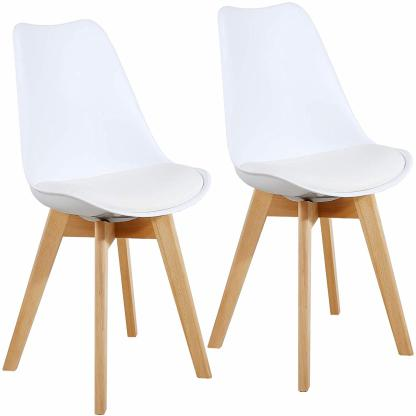chair: (2, 12, 214, 416)
